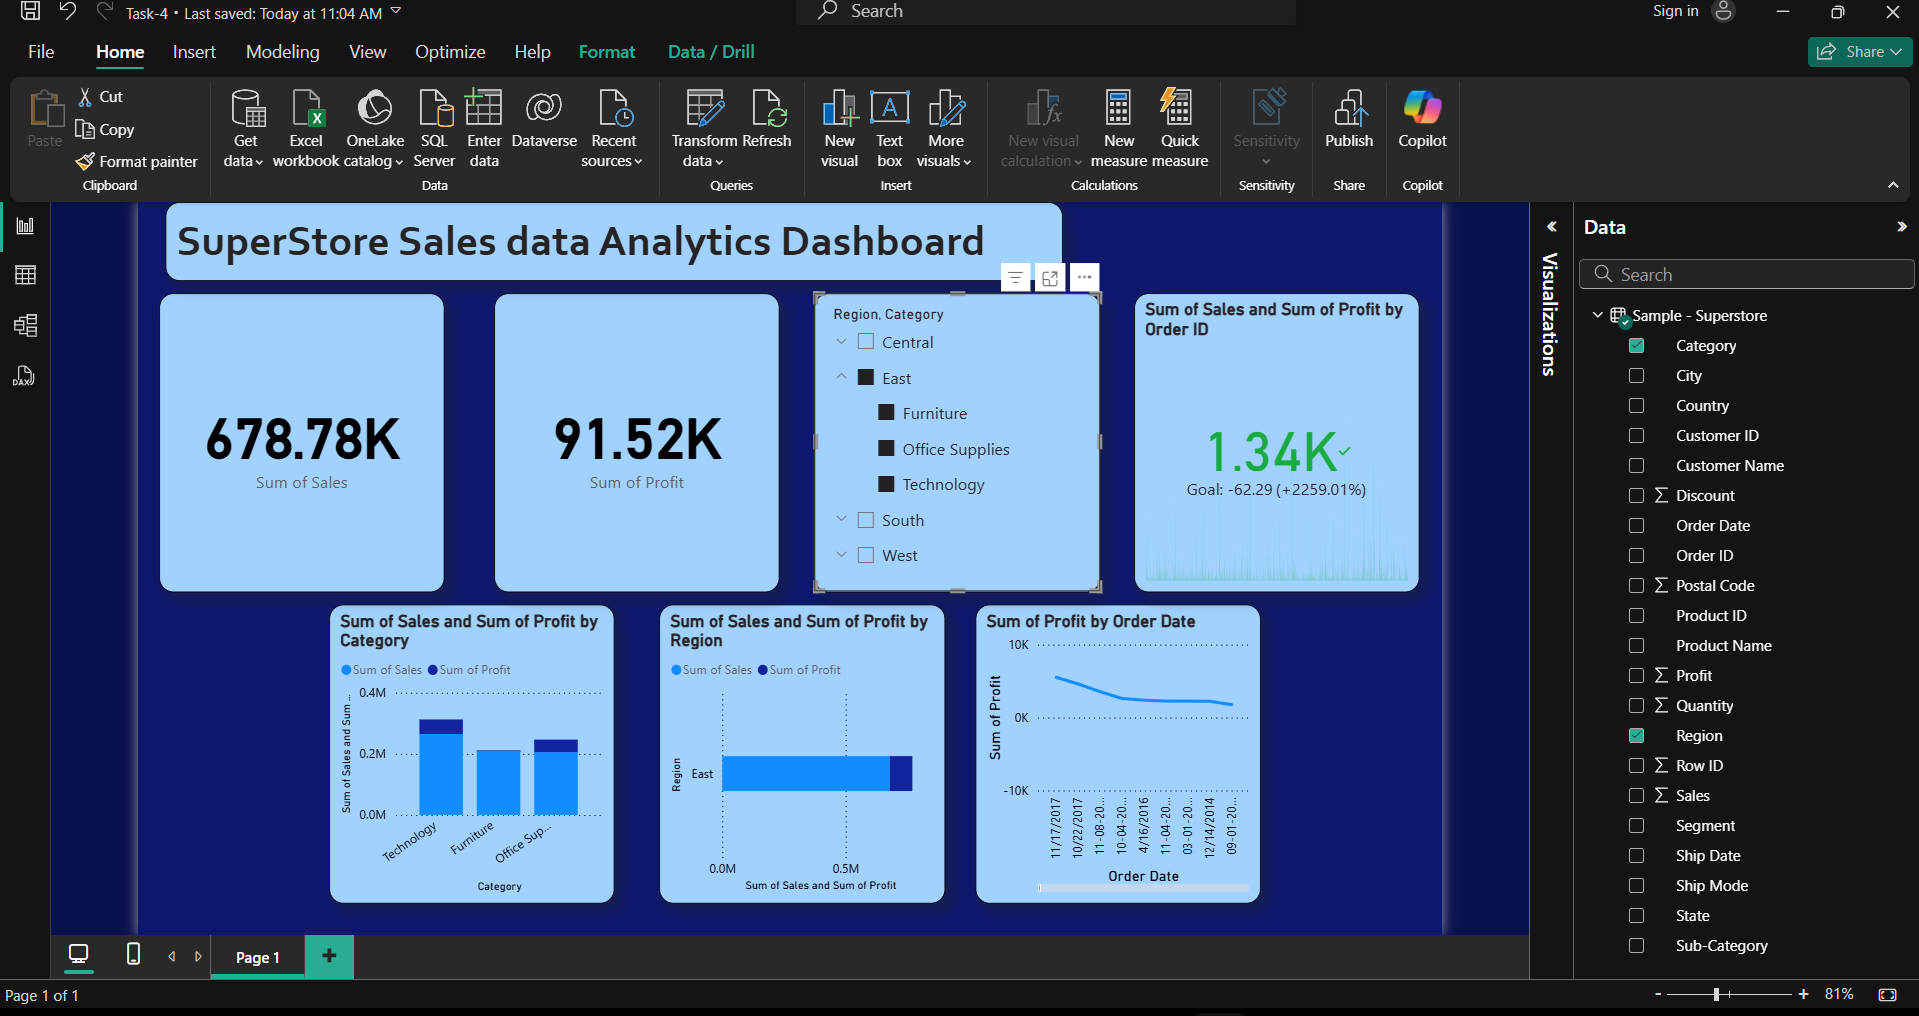

This screenshot's page, from the dashboard's own definition file:
{"tool":"powerbi","page":{"name":"Page 1","canvas":[1280,720],"ordinal":0},"visuals":[{"type":"lineChart","fields":{"Category":["Sample - Superstore.Order Date"],"Y":["Sum(Sample - Superstore.Profit)","select"]},"box":[822.1,395.1,279.8,293.3],"z":0},{"type":"columnChart","fields":{"Category":["Sample - Superstore.Category"],"Y":["Sum(Sample - Superstore.Sales)","Sum(Sample - Superstore.Profit)"]},"box":[187.7,395.1,279.8,293.3],"z":1000},{"type":"barChart","fields":{"Category":["Sample - Superstore.Region"],"Y":["Sum(Sample - Superstore.Sales)","Sum(Sample - Superstore.Profit)"]},"box":[511.7,395.1,281,293.3],"z":2000},{"type":"slicer","fields":{"Values":["Sample - Superstore.Region","Sample - Superstore.Category"]},"box":[663.8,89.6,281,293.3],"z":3000},{"type":"kpi","fields":{"Indicator":["Sum(Sample - Superstore.Sales)"],"TrendLine":["Sample - Superstore.Order ID"],"Goal":["Sum(Sample - Superstore.Profit)"]},"box":[977.9,89.6,279.8,293.3],"z":4000},{"type":"card","fields":{"Values":["Sum(Sample - Superstore.Sales)"]},"box":[20.9,89.6,279.8,293.3],"z":5000},{"type":"card","fields":{"Values":["Sum(Sample - Superstore.Profit)"]},"box":[349.7,89.6,279.8,293.3],"z":6000},{"type":"textbox","box":[27,0,881,77.3],"z":6001}]}

Visuals, with their boxes on the page's 1280x720 design canvas (x1, y1, x2, y2). These are canvas units, not pixel positions in the 1919x1016 screenshot, which may show the page scaled, cropped or inside an application window:
lineChart - Sample - Superstore.Order Date x Sum(Sample - Superstore.Profit): [x1=822, y1=395, x2=1102, y2=688]
columnChart - Sample - Superstore.Category x Sum(Sample - Superstore.Sales): [x1=188, y1=395, x2=468, y2=688]
barChart - Sample - Superstore.Region x Sum(Sample - Superstore.Sales): [x1=512, y1=395, x2=793, y2=688]
slicer - Sample - Superstore.Region x Sample - Superstore.Category: [x1=664, y1=90, x2=945, y2=383]
kpi - Sum(Sample - Superstore.Sales) x Sample - Superstore.Order ID: [x1=978, y1=90, x2=1258, y2=383]
card - Sum(Sample - Superstore.Sales): [x1=21, y1=90, x2=301, y2=383]
card - Sum(Sample - Superstore.Profit): [x1=350, y1=90, x2=630, y2=383]
textbox: [x1=27, y1=0, x2=908, y2=77]
